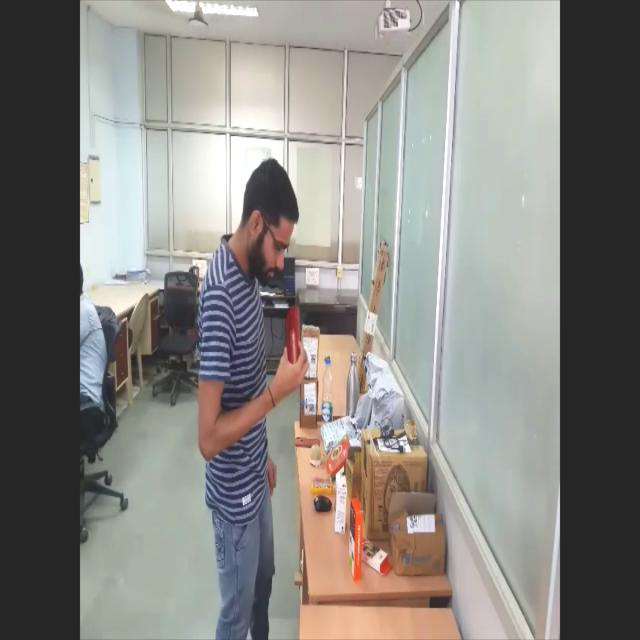normal: (190, 146, 308, 639)
